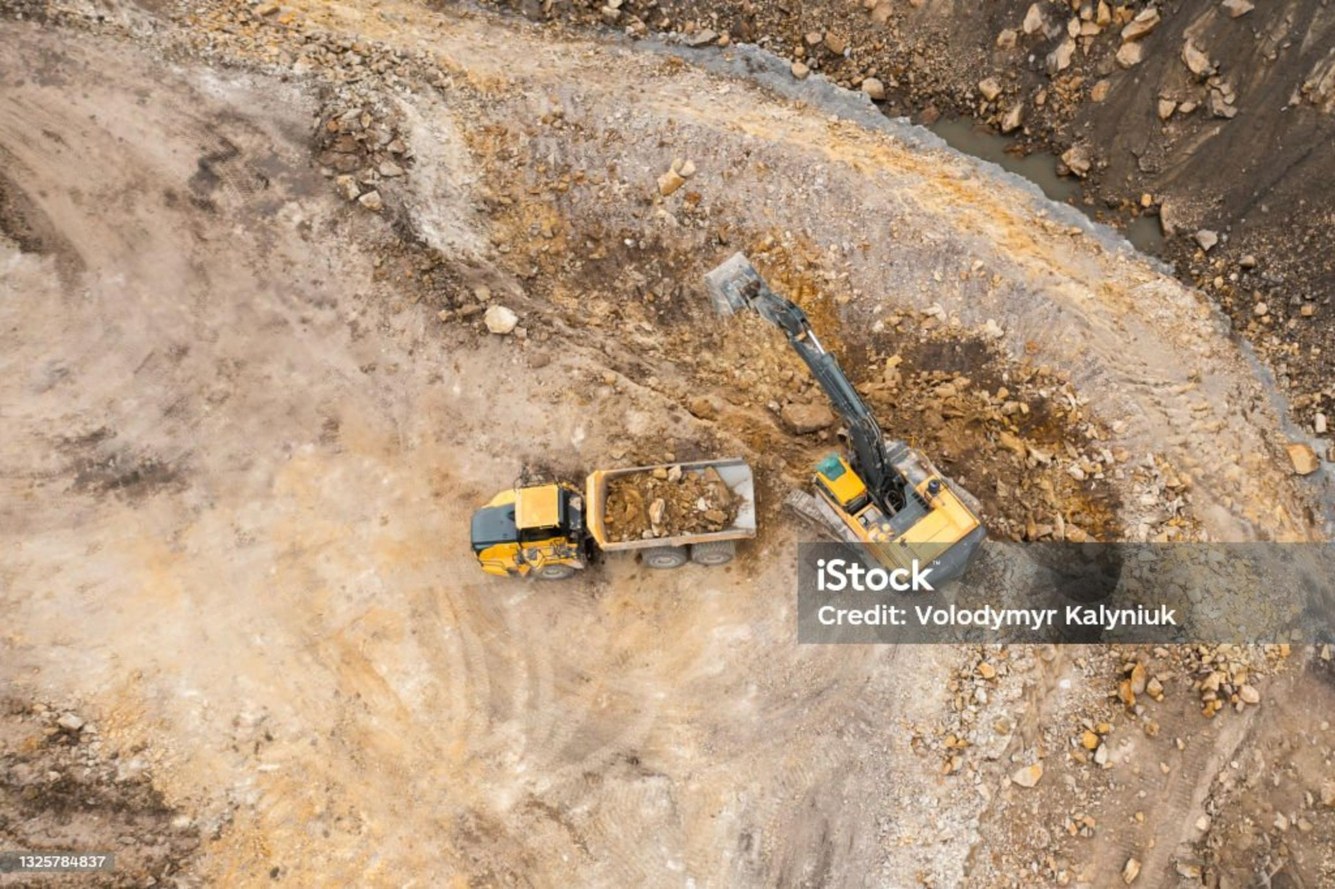benches: (296, 0, 1272, 463)
excavator: (708, 254, 987, 588)
truck: (491, 448, 758, 582)
